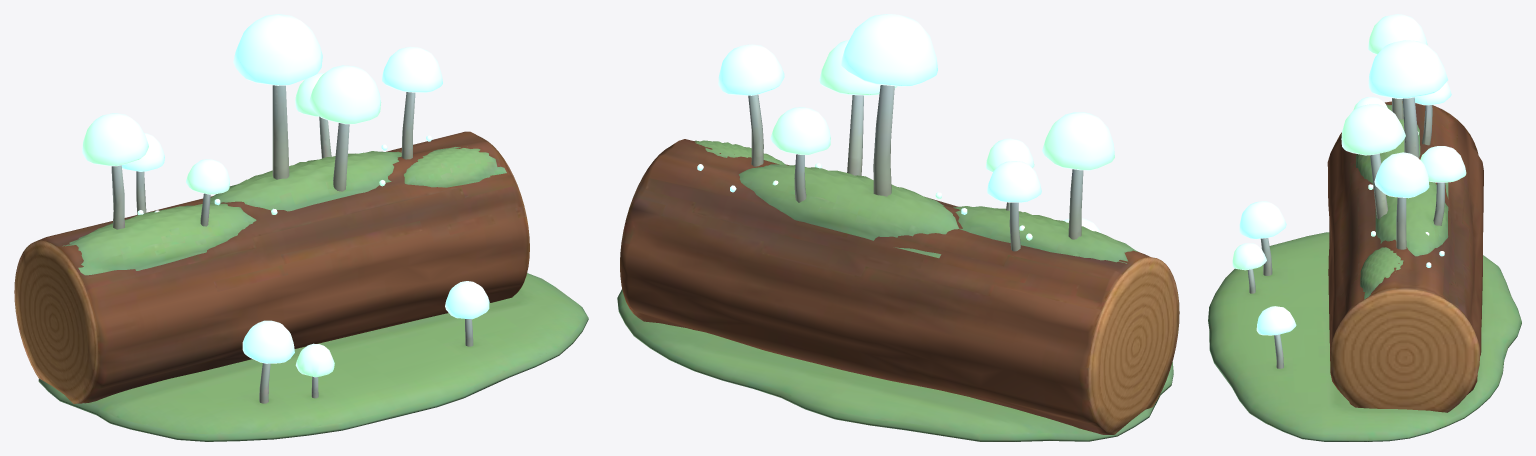
Rendered from glowlog.glb.
3 views of the same model, side by side, from view 1: azimuth 30°, elevation 25°; view 2: azimuth 150°, elevation 25°; view 3: azimuth 270°, elevation 25° (orthographic). The views are drawn at different scales.
Visible parts, largest first — view 1: glowing-mushroom-log_body, glowing-mushroom-log_caps_glow; view 2: glowing-mushroom-log_body, glowing-mushroom-log_caps_glow; view 3: glowing-mushroom-log_body, glowing-mushroom-log_caps_glow.
Part boxes in pixels (x1=…): glowing-mushroom-log_body: x1=14, y1=85, x2=588, y2=441; glowing-mushroom-log_caps_glow: x1=82, y1=14, x2=489, y2=377; glowing-mushroom-log_body: x1=617, y1=85, x2=1179, y2=441; glowing-mushroom-log_caps_glow: x1=697, y1=14, x2=1114, y2=240; glowing-mushroom-log_body: x1=1208, y1=97, x2=1521, y2=441; glowing-mushroom-log_caps_glow: x1=1232, y1=14, x2=1466, y2=335.
Bounding box in the file's own units: 0.4017 × 0.2514 × 0.2508.
3 materials, 1 textured.
